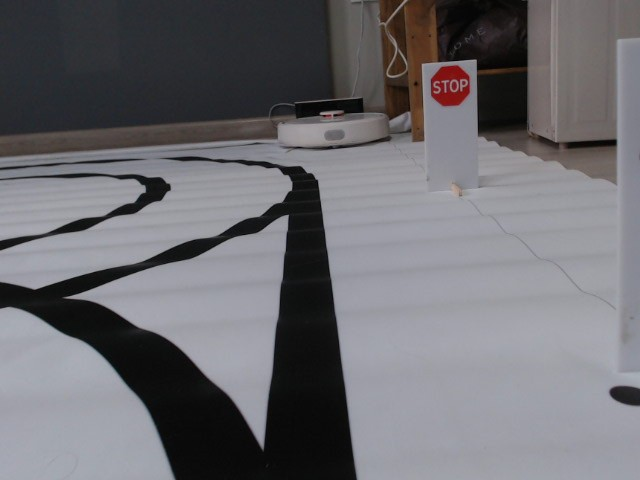Stop: (428, 65, 472, 107)
